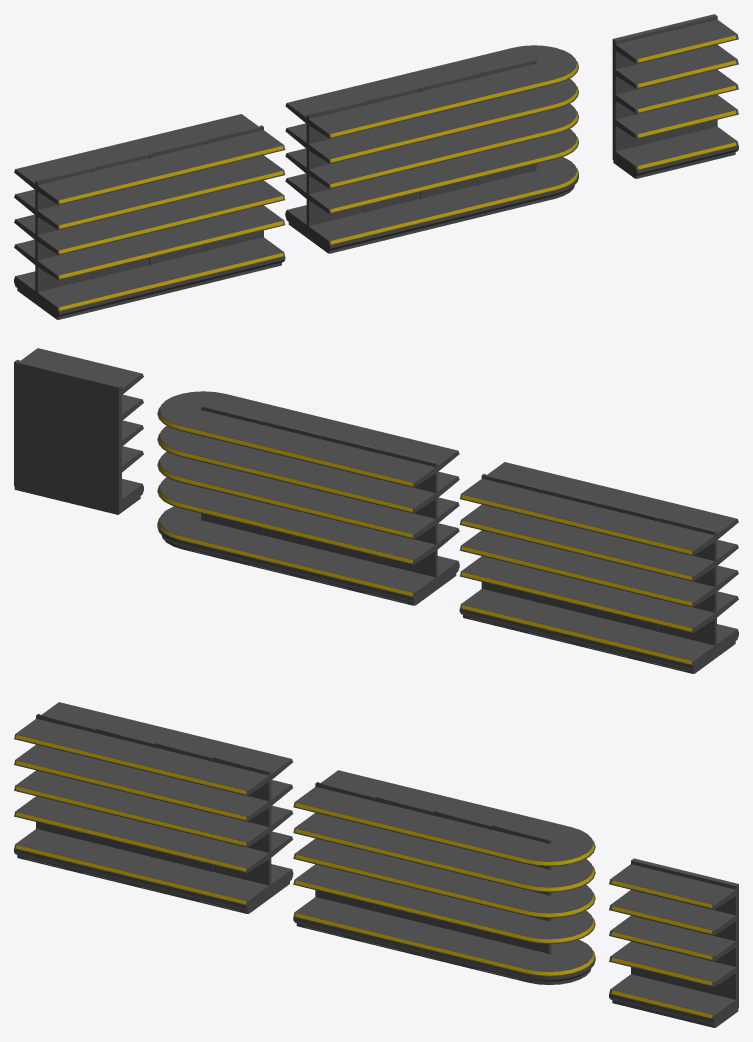
The model's file is Shelvesv2.fbx.
The picture shows the model from 3 angles, top to bottom: view 1: azimuth 30°, elevation 25°; view 2: azimuth 150°, elevation 25°; view 3: azimuth 330°, elevation 25°; orthographic projection. The views are drawn at different scales.
Parts seen in each view (by area): view 1: ShelveTurn, Shelve2Side, Shelve1Side; view 2: ShelveTurn, Shelve2Side, Shelve1Side; view 3: ShelveTurn, Shelve2Side, Shelve1Side.
Boxes of the visible parts, bbox=[...] form: ShelveTurn: bbox=[285, 45, 578, 253]; Shelve2Side: bbox=[14, 114, 285, 319]; Shelve1Side: bbox=[612, 14, 738, 178]; ShelveTurn: bbox=[157, 391, 459, 605]; Shelve2Side: bbox=[459, 462, 738, 673]; Shelve1Side: bbox=[14, 348, 143, 514]; ShelveTurn: bbox=[293, 770, 595, 984]; Shelve2Side: bbox=[14, 702, 293, 913]; Shelve1Side: bbox=[609, 858, 738, 1027].
Bounding box in the file's own units: 1051 × 183 × 120.
